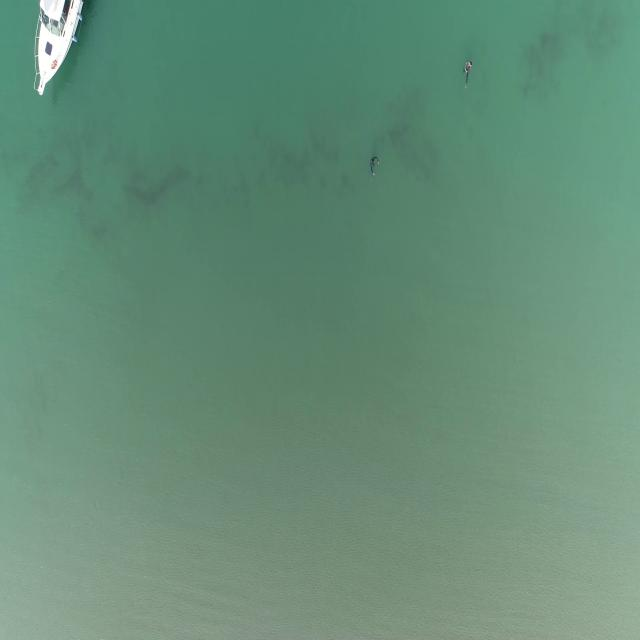boat: (29, 0, 86, 99)
person: (463, 58, 475, 87), (368, 155, 382, 177)
